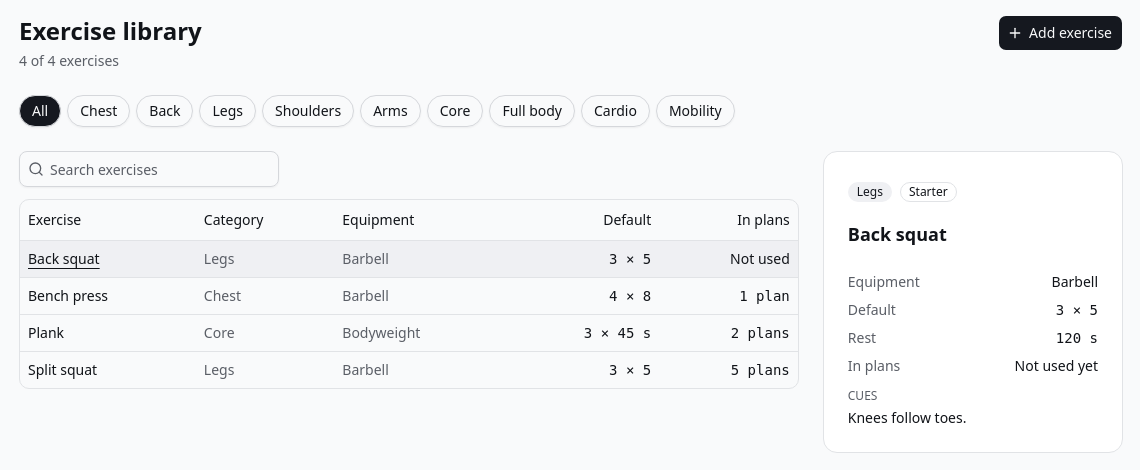
Scenario: ExerciseLibraryPage › moves the choice to the first exercise left when the chosen one is filtered out
The width and height of the screenshot is (1140, 470).
Check: the button "Back squat" is shown, box x1=28 y1=248 x2=100 y2=268
Click the button "Bench press".
click(68, 296)  # box x1=28 y1=286 x2=108 y2=306
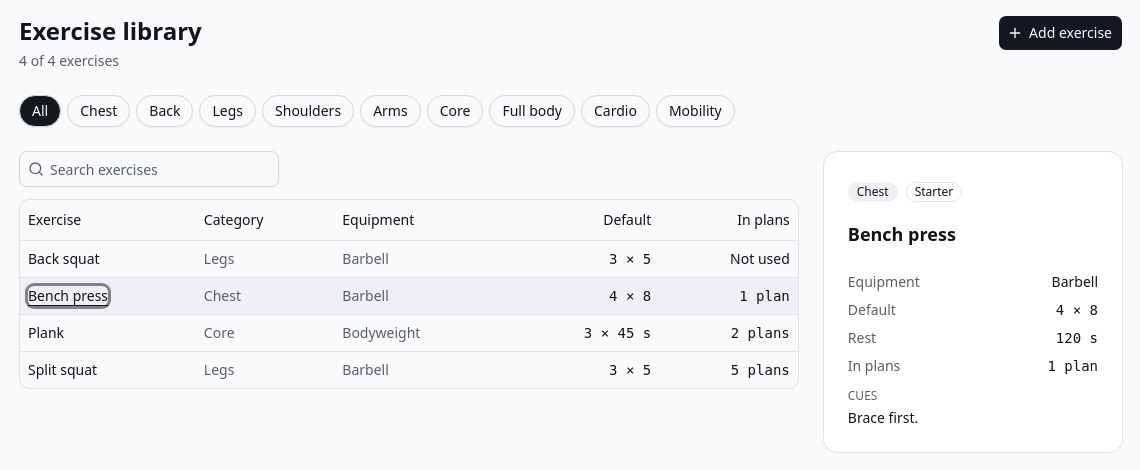
Type "squat" into the search field.
click(161, 169); type("squat")  # box x1=44 y1=151 x2=278 y2=187
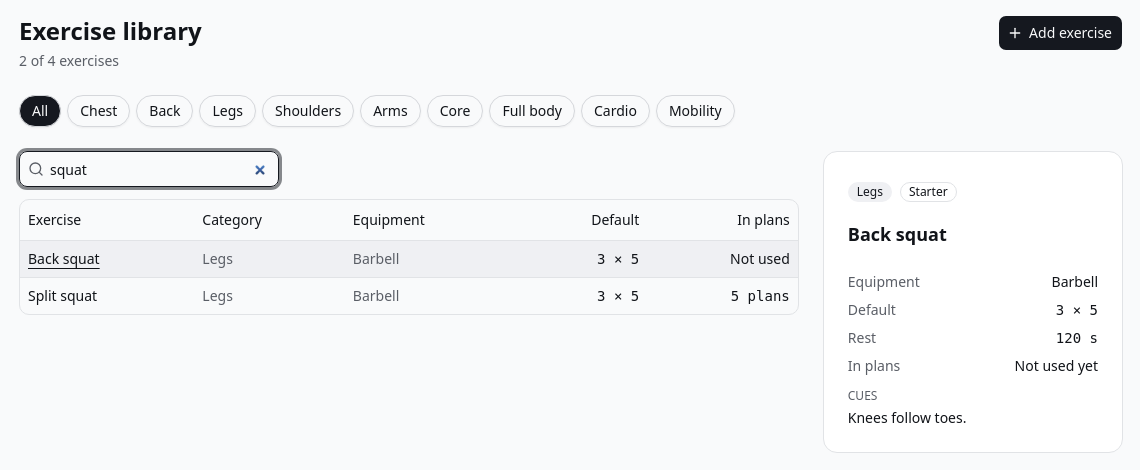
Check: the heading "Back squat" is shown, box x1=848 y1=222 x2=947 y2=246
